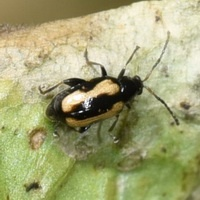insect: (39, 31, 178, 131)
